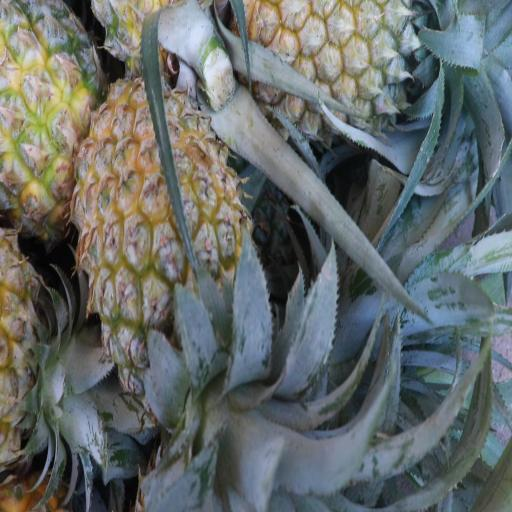------------------------------: (1, 0, 107, 263)
Pineapple - v8 v1: (68, 65, 262, 512), (216, 0, 441, 167)
